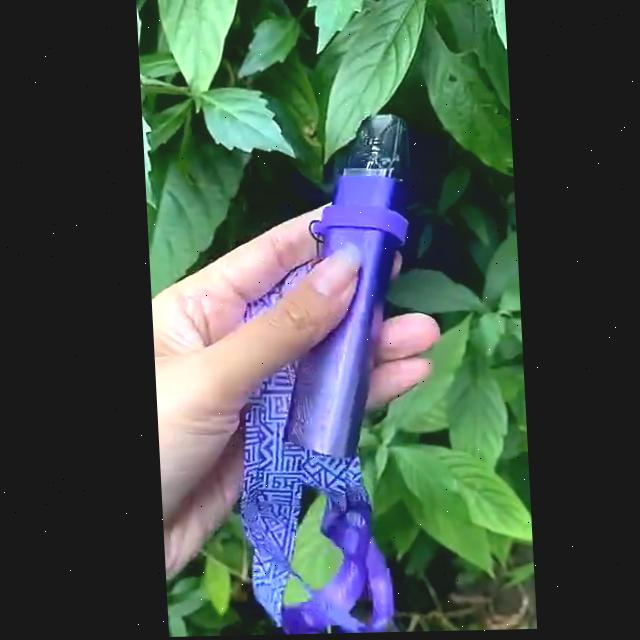vape: (262, 118, 436, 461)
